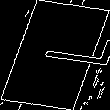L_W: (10, 34, 100, 76)
